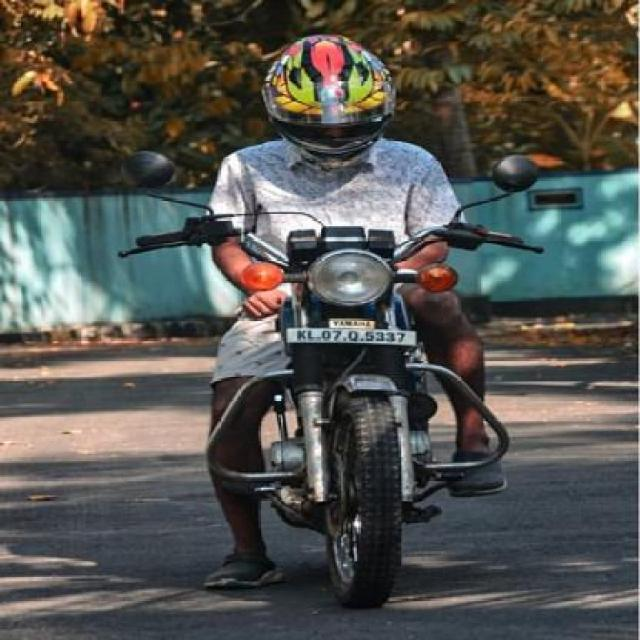helmet: (248, 30, 412, 176)
motorcycle: (148, 14, 544, 633)
